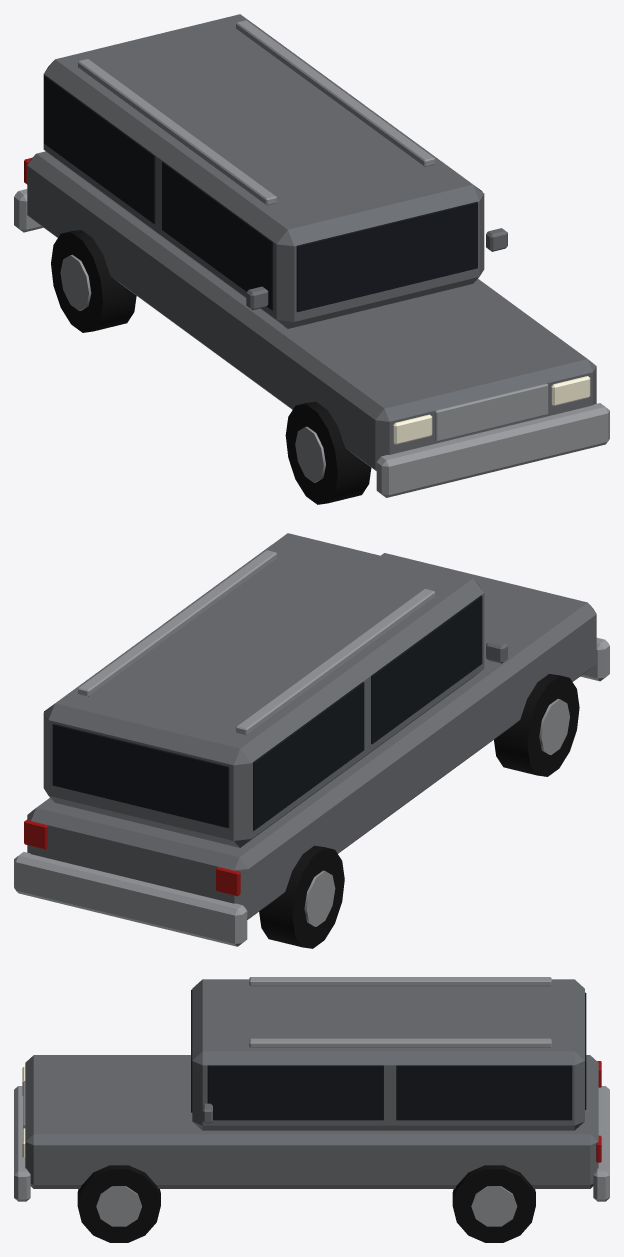
File: suv_gray.dae
3 views of the same model, one above another, from view 1: azimuth 30°, elevation 25°; view 2: azimuth 150°, elevation 25°; view 3: azimuth 270°, elevation 25° (orthographic). The views are drawn at different scales.
Visible parts, largest first — view 1: marker; view 2: marker; view 3: marker.
Boxes of the visible parts, x1,y1,x2,y2 form: marker: (14, 14, 609, 504); marker: (14, 533, 609, 948); marker: (14, 977, 609, 1242).
Size of the model in its own units: 2.28 by 5.72 by 1.97.
Materials: 1 (1 with a texture image).
